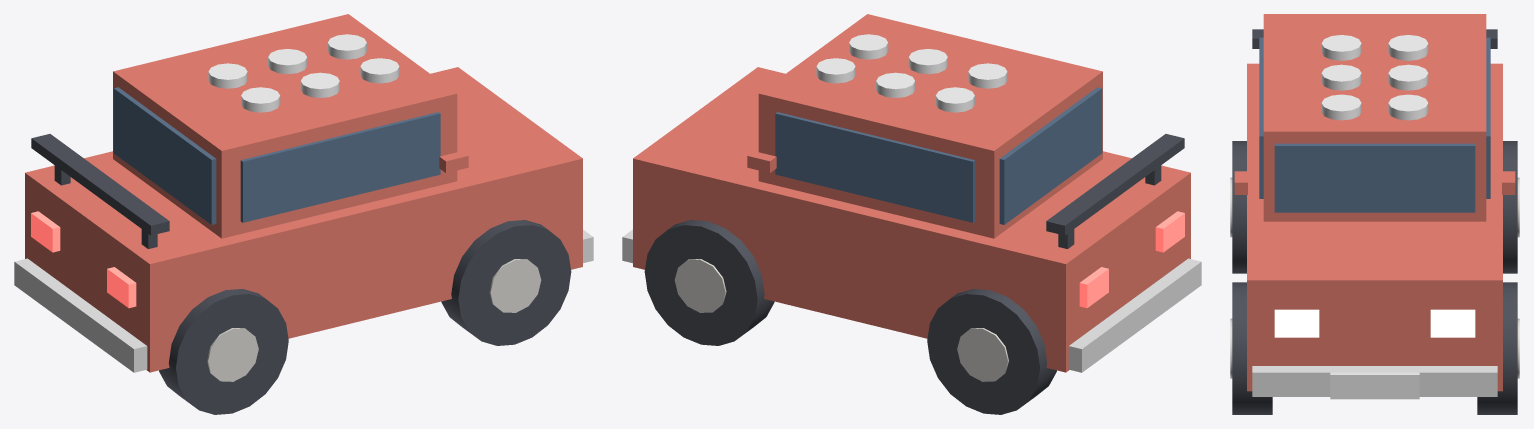
Rendered from car-sport-red.glb.
3 renders of one model, left to right at view 1: azimuth 30°, elevation 25°; view 2: azimuth 150°, elevation 25°; view 3: azimuth 270°, elevation 25°, orthographic. The views are drawn at different scales.
Size of the model in its own units: 2.47 by 1.32 by 1.3.
